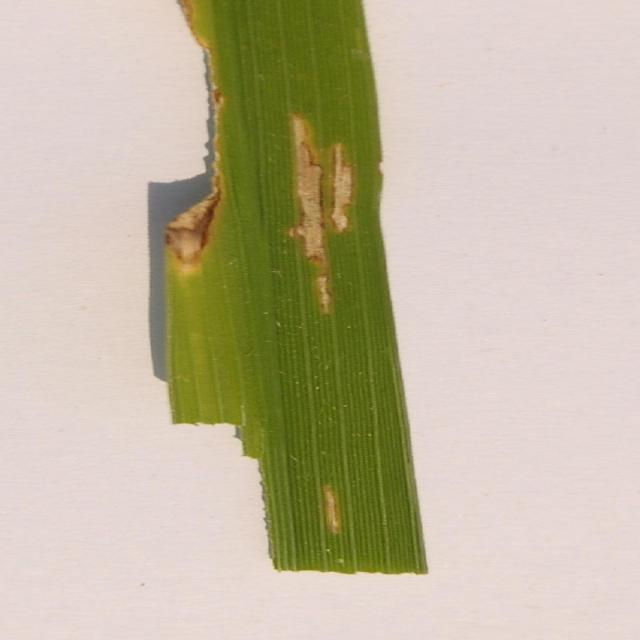leaf blight: (276, 110, 364, 315), (164, 1, 227, 271), (315, 478, 368, 541)
